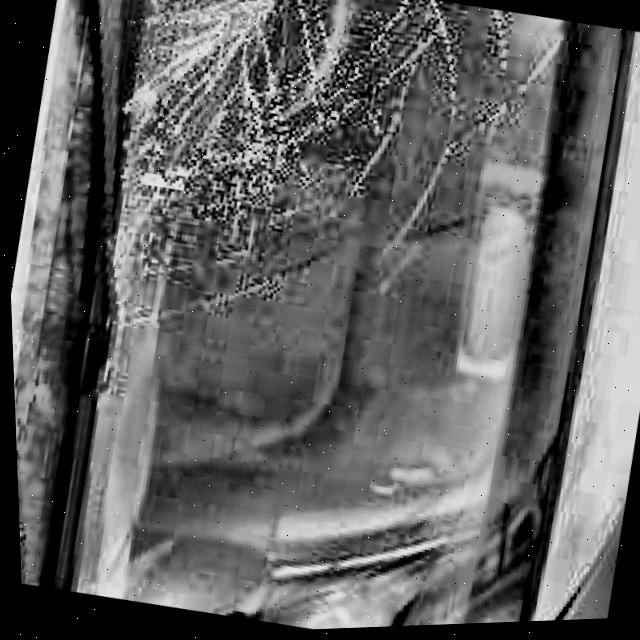glass_shatter: (123, 0, 445, 194)
